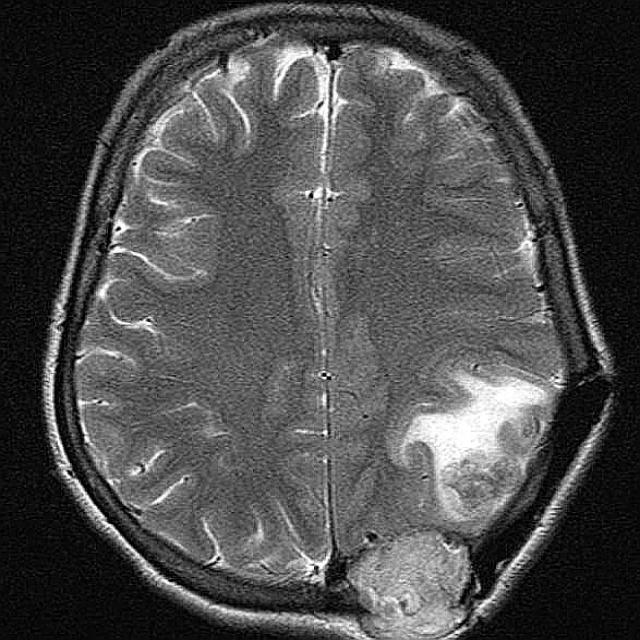Tumor-Cell: (411, 350, 566, 504), (341, 539, 489, 635)
